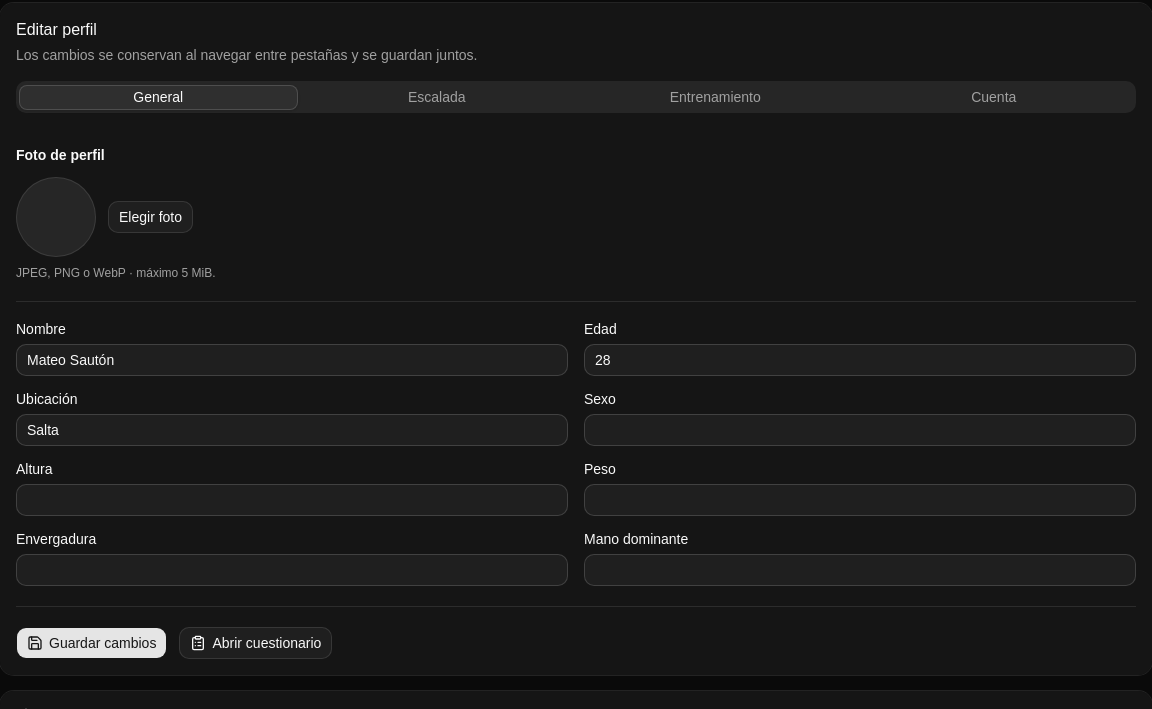
Test: UserProfile › validates age and focuses the invalid field
The width and height of the screenshot is (1152, 709).
(page scrolled)
Replace the text in the number field labelled "Edad" with "-4" at (860, 360), box [584,344,1136,376]
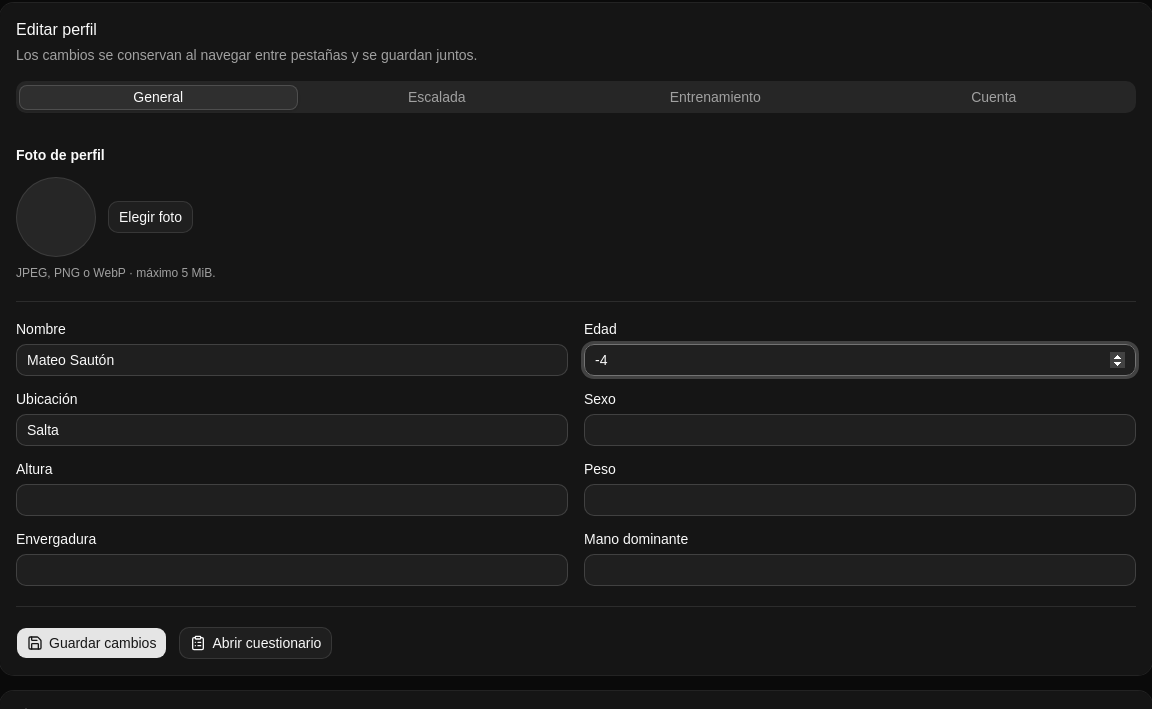
Click the button "Guardar cambios" at (92, 643), box [16,627,167,659]
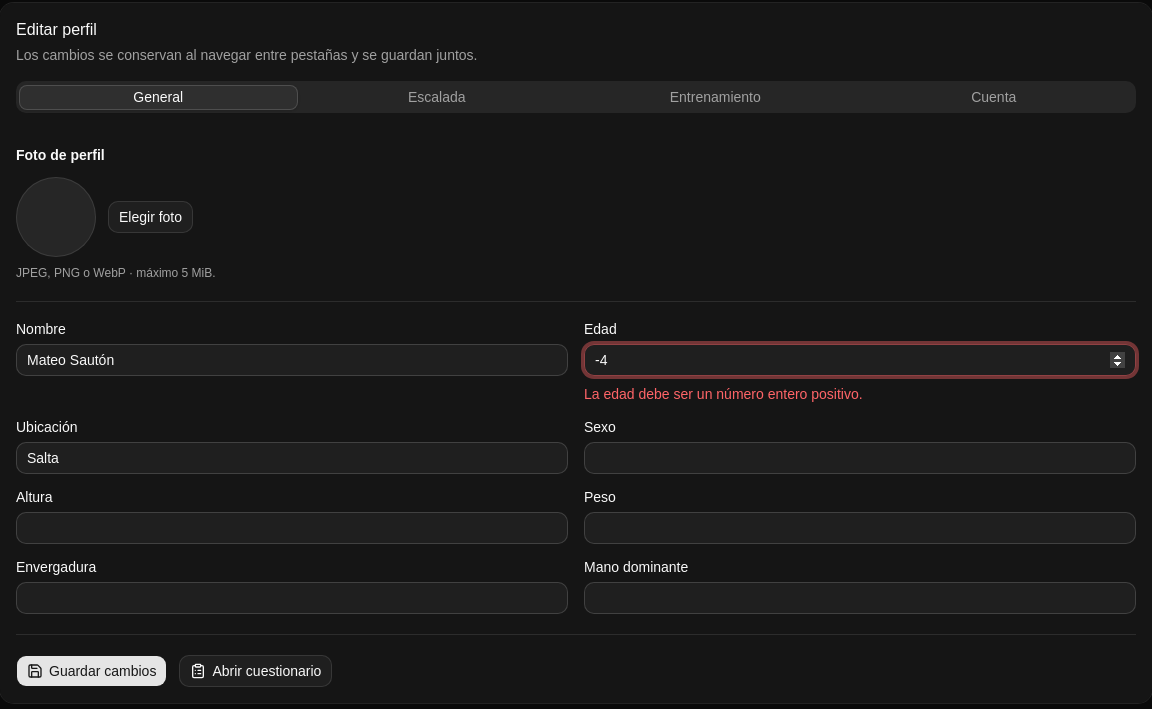
Check: the message shows "número entero positivo", box [584,386,863,402]
